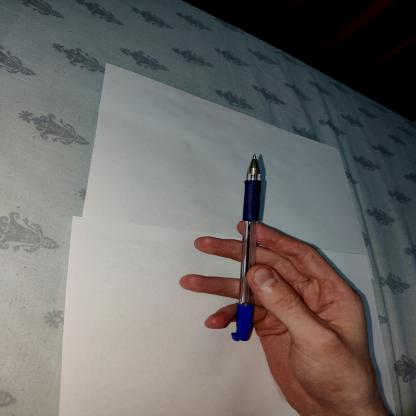Pen: (226, 150, 265, 362)
